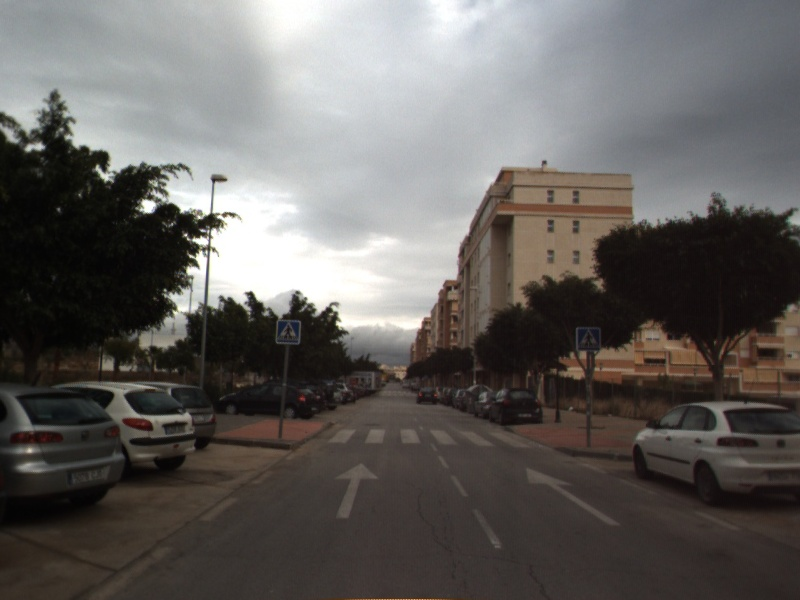STRAIGHT: (524, 466, 623, 528), (332, 461, 380, 520)
